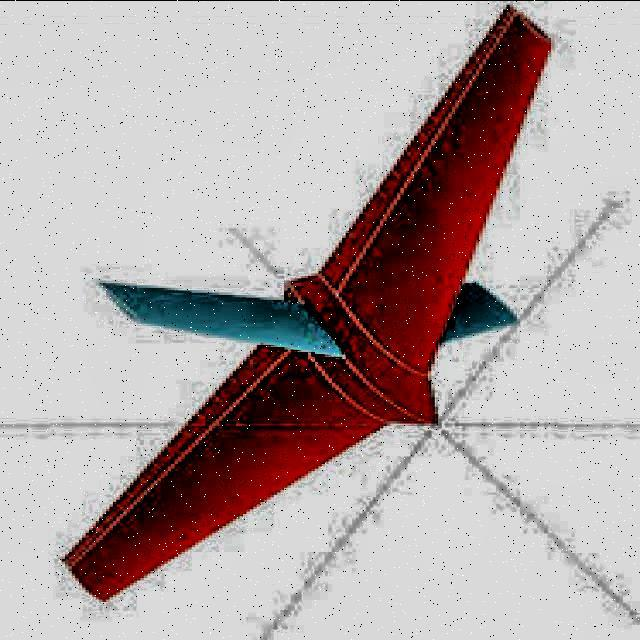iha: (50, 4, 558, 608)
